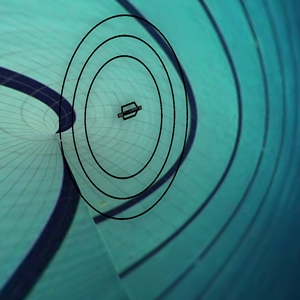circle: (49, 4, 199, 222)
submarine: (110, 97, 147, 128)
